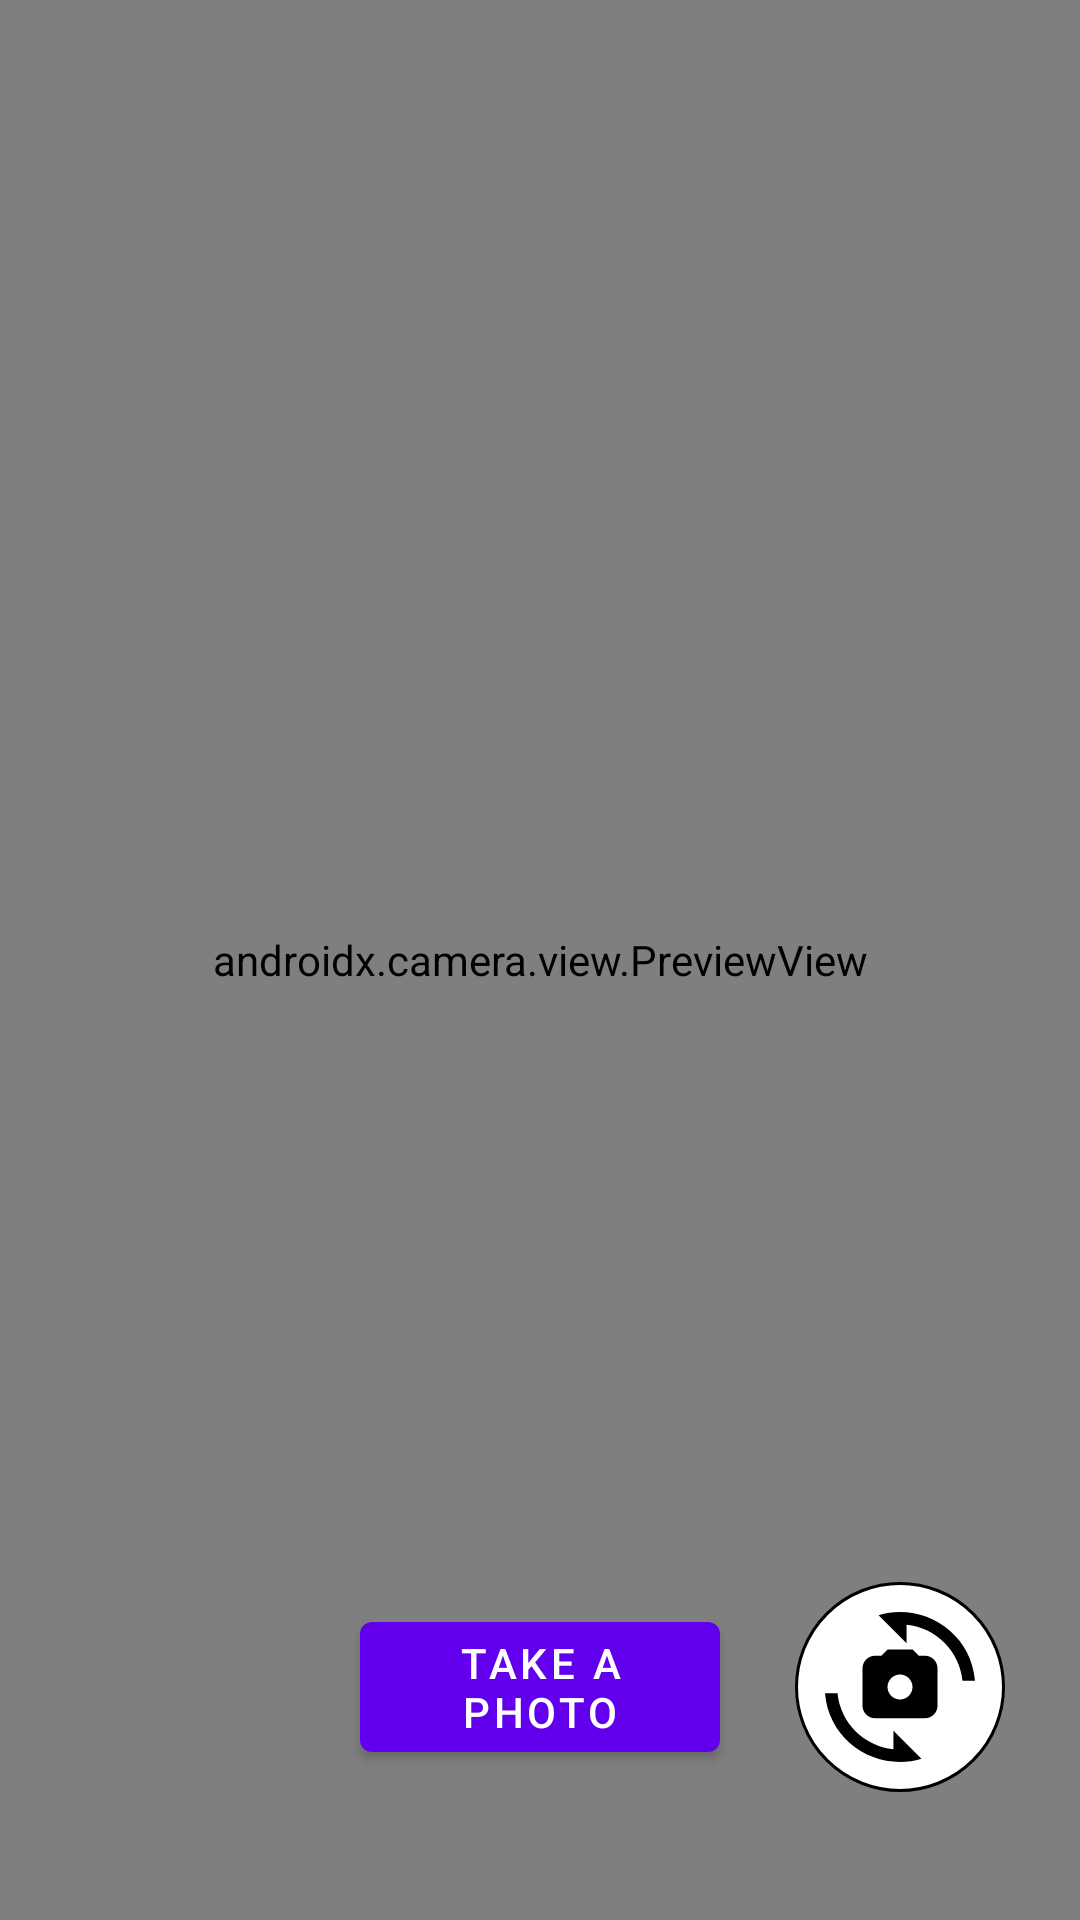

Icons on this 1080w x 1920h Android screen, each with the point to tap as (x,y):
flip camera: (900,1687)
